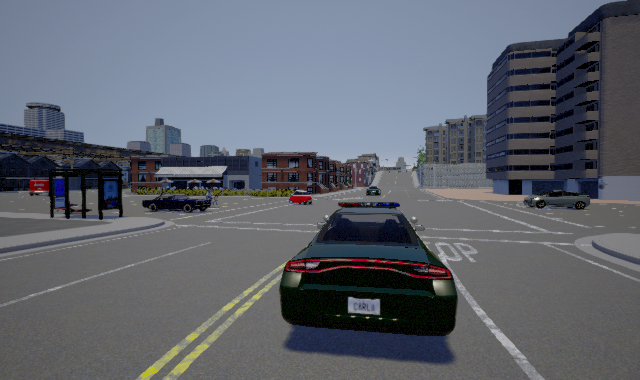bike: (204, 187, 221, 207)
vehicle: (279, 202, 458, 336), (523, 190, 590, 210), (142, 195, 210, 212), (289, 187, 312, 204), (29, 180, 49, 196), (365, 185, 382, 196)
